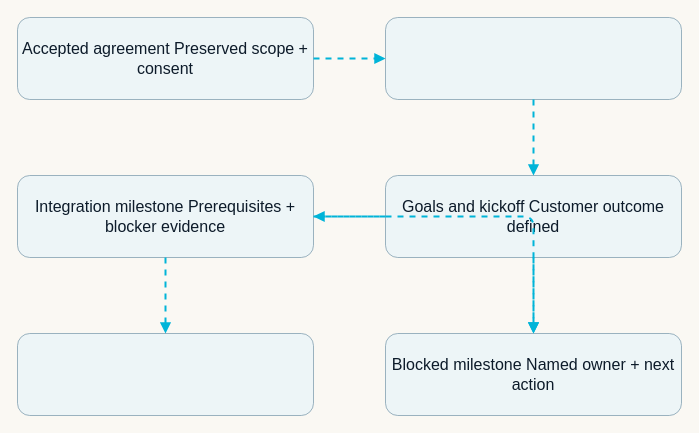
The diagram is 699 pixels wide and 433 high, and some of its shapes have lost their labels. Here are the shapes that lost their labels. From the top down, the centre of each, then its label:
At (x=533, y=58): "Confirm the handoff Owner acknowledges responsibility".
At (x=165, y=374): "First useful outcome Observed result + review".
